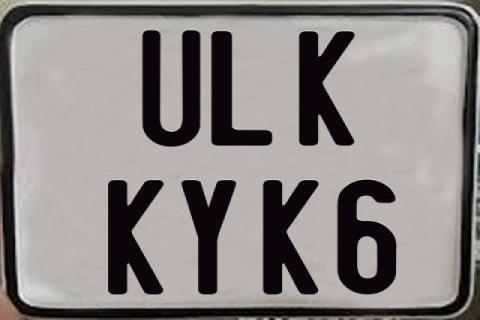0: (336, 177, 402, 292)
K: (263, 180, 325, 295), (296, 30, 356, 148), (107, 179, 163, 296)
L: (211, 29, 275, 144)
U: (141, 30, 200, 148)
Y: (181, 180, 240, 298)
